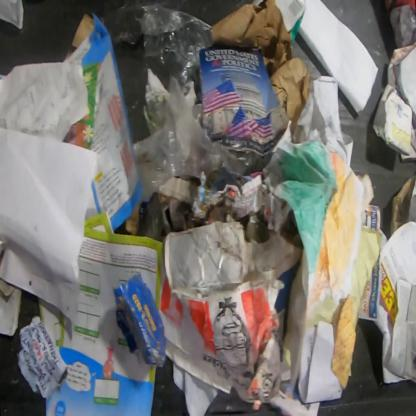cardboard: (158, 212, 304, 412), (62, 10, 142, 233), (298, 0, 379, 116), (273, 0, 307, 50)
soft_plastic: (132, 73, 268, 206), (99, 0, 216, 105)
